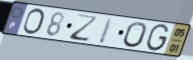8: (45, 11, 65, 37)
G: (144, 23, 171, 52)
I: (97, 16, 115, 45)
O: (122, 21, 149, 49), (21, 7, 46, 36)
Z: (68, 13, 100, 44)
